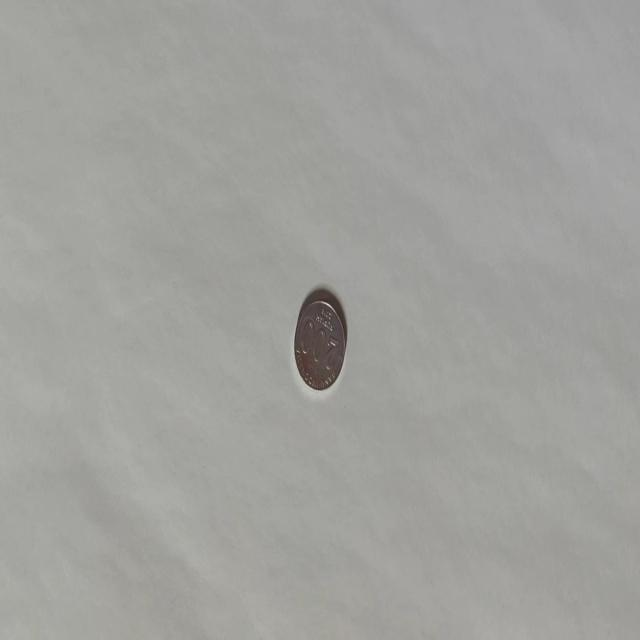dua ratus rupiah: (292, 297, 346, 391)
